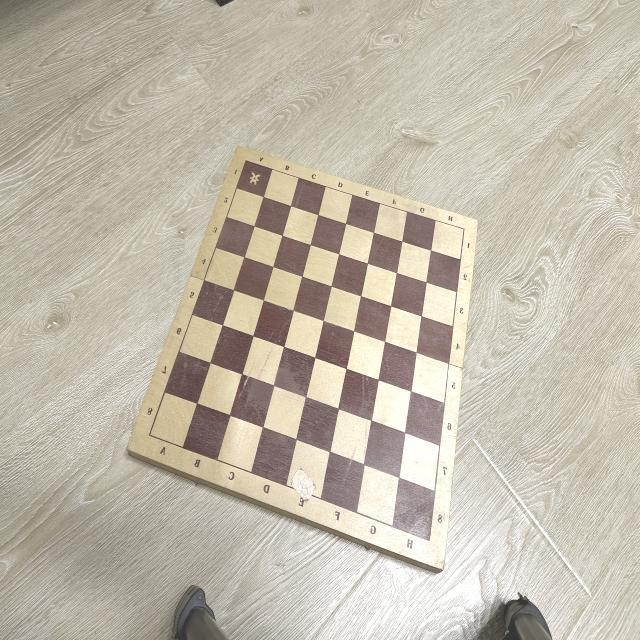chess-table-corners: (144, 430, 155, 440), (427, 534, 432, 549), (461, 226, 467, 232), (244, 156, 248, 164)
